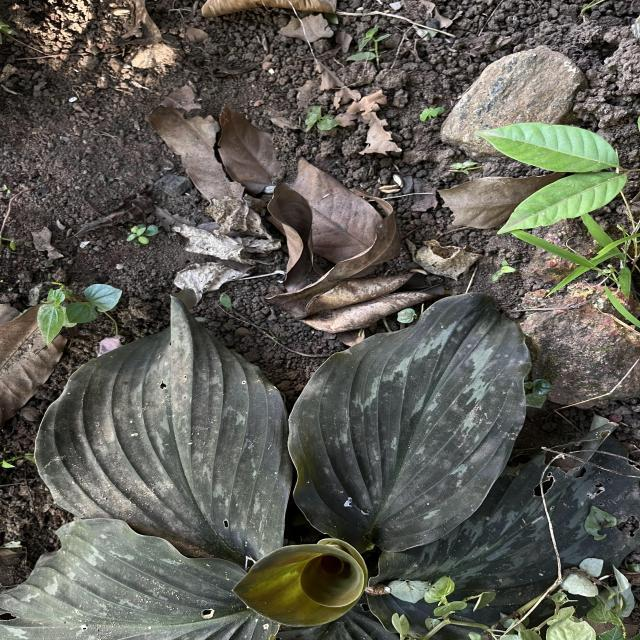Kaempferia galanga linn: (32, 285, 295, 564), (282, 289, 534, 554)
